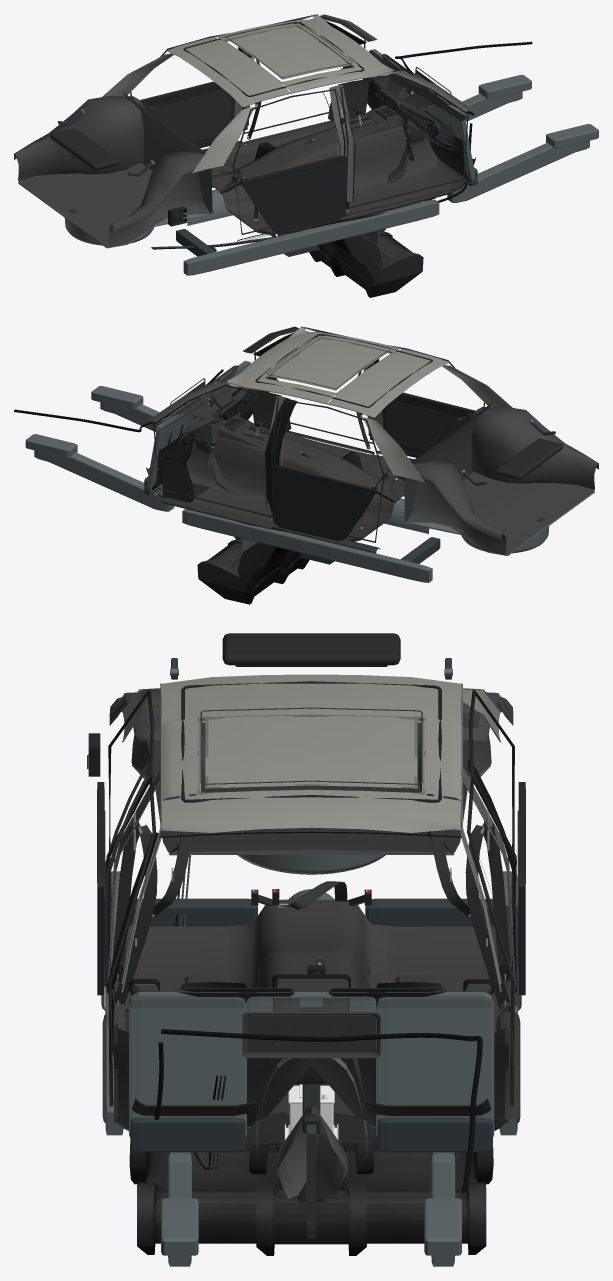
The picture shows the model from 3 angles, top to bottom: view 1: azimuth 30°, elevation 25°; view 2: azimuth 150°, elevation 25°; view 3: azimuth 270°, elevation 25°; orthographic projection. The views are drawn at different scales.
Parts seen in each view (by area): view 1: e34sys_cabin-carpet_floor, e34sys_headliner_roof, e34trim_trunk_liner_left_fitted, e34_rear_door_card_right, e34trim_luggage_floor_carpet_fitted, e34sys_sill--1_cabinfitted, e34trim_trunk_liner_right_fitted, e34_rear_door_card_left, e34trim_sunroof_liner_roof, e34sys_chassis-rail--1_cabinfitted, e34trim_rear-carpet_floor, e34sys_rear-seat-cushion_6b4c83fb_cushion (+26 smaller); view 2: e34sys_cabin-carpet_floor, e34sys_headliner_roof, e34trim_trunk_liner_right_fitted, e34_rear_door_card_left, e34trim_luggage_floor_carpet_fitted, e34sys_sill-1_cabinfitted, e34trim_trunk_liner_left_fitted, e34_rear_door_card_right, e34trim_sunroof_liner_roof, e34sys_chassis-rail-1_cabinfitted, e34trim_rear-carpet_floor, e34sys_rear-seat-cushion_6b4c83fb_cushion (+26 smaller); view 3: e34sys_firewall_cabinfitted, e34sys_headliner_roof, e34trim_rear-carpet_floor, e34trim_sunroof_liner_roof, e34sys_rear-seat-cushion_6b4c83fb_cushion, e34sys_rear-seat-cushion_6b4c83fb_backrest, e34trim_luggage_front_liner_fitted, e34hvac_bulkhead-liner_detail, e34sys_cabin-carpet_floor, e34trim_trunk_lid_inner_opening, e34hvac_heater-access-panel_detail, e34sys_sill--1_cabinfitted (+38 smaller).
Part boxes in pixels (bbox=[...]): e34sys_cabin-carpet_floor: bbox=[237, 109, 476, 221]; e34sys_headliner_roof: bbox=[166, 14, 394, 107]; e34trim_trunk_liner_left_fitted: bbox=[14, 96, 143, 181]; e34_rear_door_card_right: bbox=[240, 155, 347, 233]; e34trim_luggage_floor_carpet_fitted: bbox=[18, 162, 210, 246]; e34sys_sill--1_cabinfitted: bbox=[176, 199, 439, 275]; e34trim_trunk_liner_right_fitted: bbox=[108, 150, 221, 247]; e34_rear_door_card_left: bbox=[139, 81, 234, 148]; e34trim_sunroof_liner_roof: bbox=[228, 26, 350, 79]; e34sys_chassis-rail--1_cabinfitted: bbox=[447, 124, 598, 202]; e34trim_rear-carpet_floor: bbox=[211, 148, 336, 234]; e34sys_rear-seat-cushion_6b4c83fb_cushion: bbox=[336, 229, 423, 297]; e34sys_cabin-carpet_floor: bbox=[146, 420, 380, 528]; e34sys_headliner_roof: bbox=[226, 326, 449, 418]; e34trim_trunk_liner_right_fitted: bbox=[471, 406, 598, 490]; e34_rear_door_card_left: bbox=[271, 465, 376, 541]; e34trim_luggage_floor_carpet_fitted: bbox=[404, 472, 594, 554]; e34sys_sill-1_cabinfitted: bbox=[182, 509, 440, 582]; e34trim_trunk_liner_left_fitted: bbox=[395, 460, 506, 554]; e34_rear_door_card_right: bbox=[382, 392, 475, 457]; e34trim_sunroof_liner_roof: bbox=[269, 338, 388, 390]; e34sys_chassis-rail-1_cabinfitted: bbox=[25, 434, 174, 511]; e34trim_rear-carpet_floor: bbox=[320, 456, 405, 541]; e34sys_rear-seat-cushion_6b4c83fb_cushion: bbox=[197, 537, 282, 604]; e34sys_firewall_cabinfitted: bbox=[129, 992, 494, 1152]; e34sys_headliner_roof: bbox=[160, 674, 462, 832]; e34trim_rear-carpet_floor: bbox=[114, 899, 507, 1012]; e34trim_sunroof_liner_roof: bbox=[205, 715, 417, 788]; e34sys_rear-seat-cushion_6b4c83fb_cushion: bbox=[137, 1181, 486, 1254]; e34sys_rear-seat-cushion_6b4c83fb_backrest: bbox=[129, 1128, 493, 1190]; e34trim_luggage_front_liner_fitted: bbox=[142, 712, 480, 852]; e34hvac_bulkhead-liner_detail: bbox=[114, 1023, 508, 1127]; e34sys_cabin-carpet_floor: bbox=[113, 949, 508, 1130]; e34trim_trunk_lid_inner_opening: bbox=[222, 633, 400, 666]; e34hvac_heater-access-panel_detail: bbox=[243, 1014, 379, 1056]; e34sys_sill--1_cabinfitted: bbox=[105, 871, 257, 1135].
Size of the model in its own units: 4.29 by 1.86 by 1.63.
Materials: 69 (1 with a texture image).
